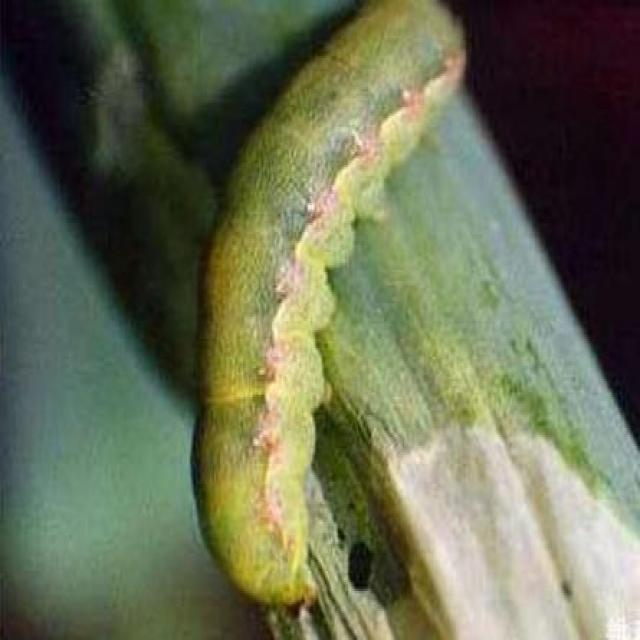BeetArmyWorm-Larva-: (185, 1, 474, 612)
